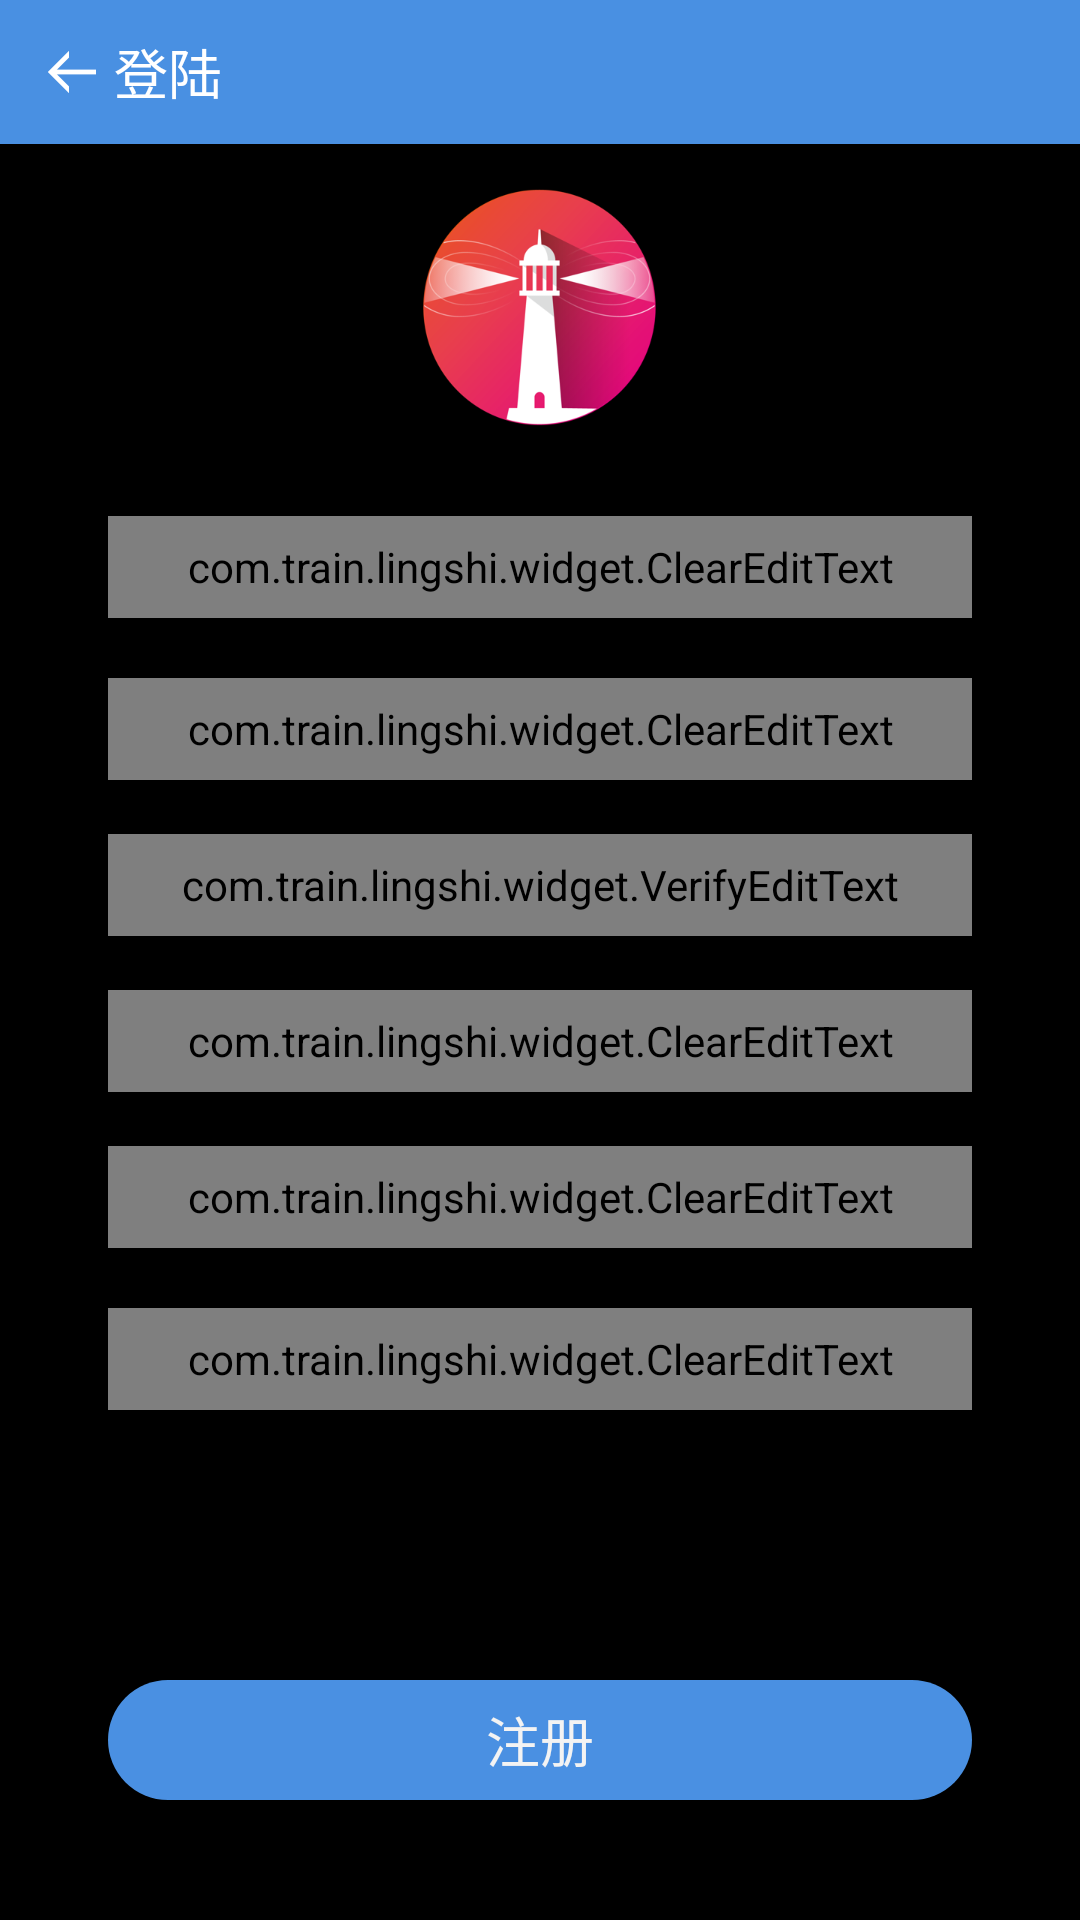

Point at icon controls on the screen. Image size 1080x1920, points as (x=x, y=y).
fanhui: (x=72, y=72)
